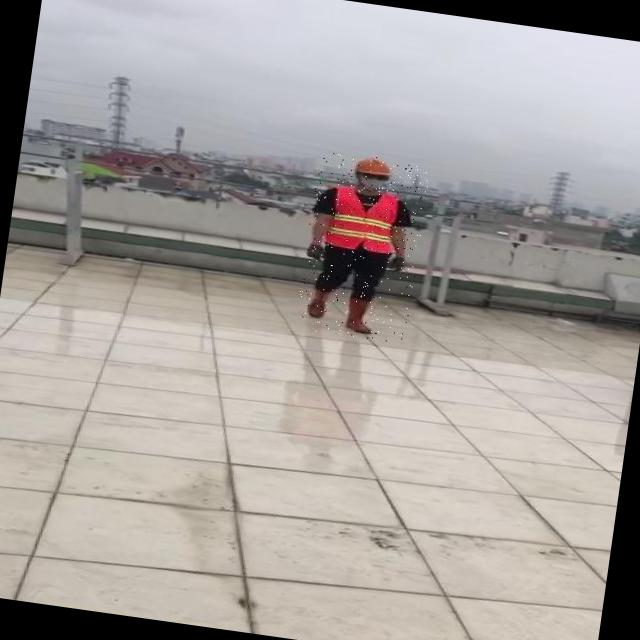hard_hat: (351, 153, 395, 178)
safety_vest: (324, 186, 404, 254)
vehicle: (294, 151, 430, 344)
work_boots: (344, 295, 381, 336), (303, 286, 330, 319)
